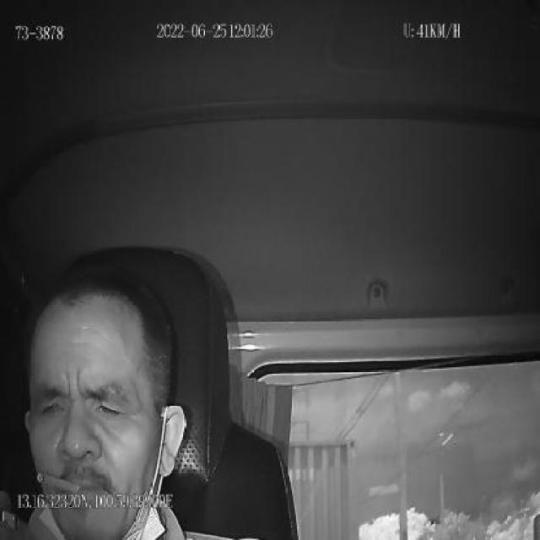smoking: (32, 472, 80, 493)
